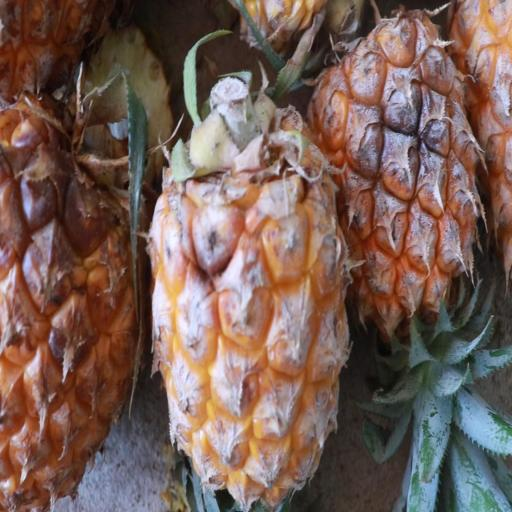Pineapple - v8 v1: (142, 77, 358, 511), (295, 5, 492, 390), (0, 96, 139, 512)
